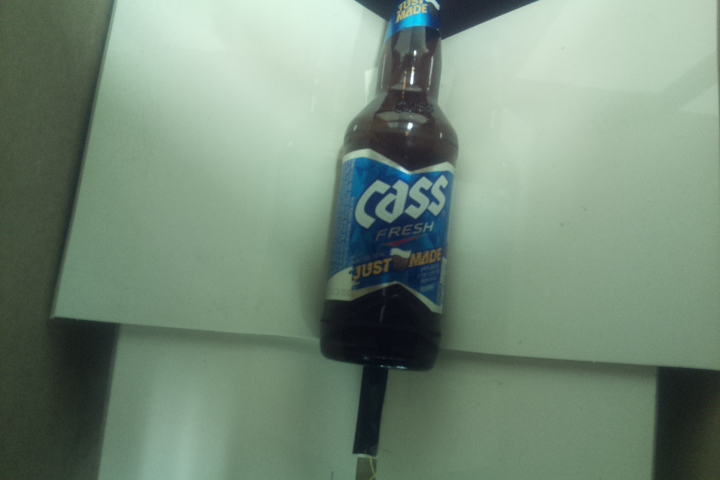makju: (319, 1, 465, 372)
